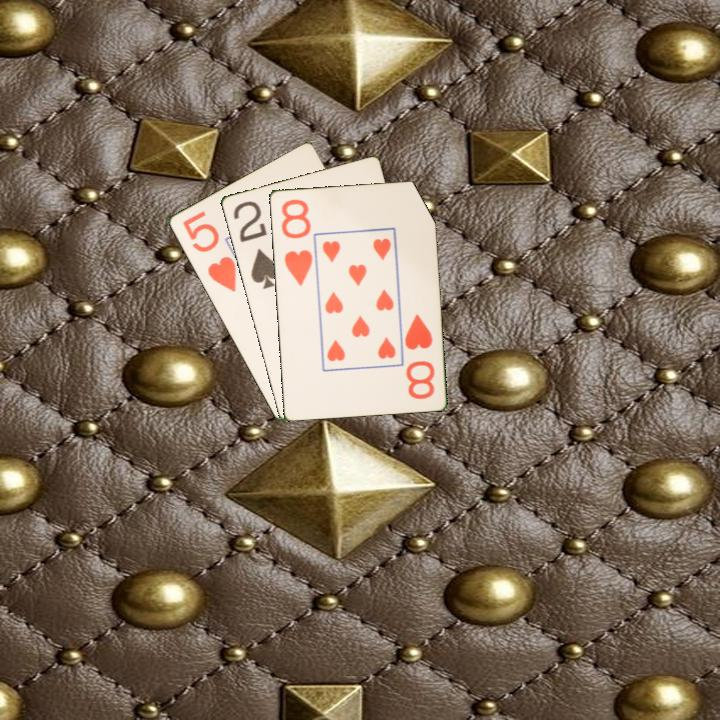2s: (229, 197, 282, 292)
5h: (179, 207, 239, 295)
8h: (277, 195, 315, 289), (401, 310, 437, 402)
